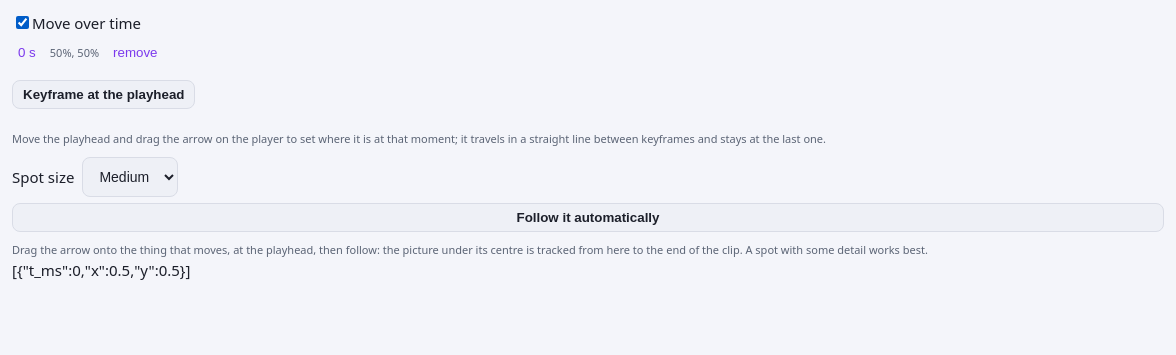
Test: Follow it automatically › shows why it could not follow, and changes nothing
Step 1. Click the button "Follow it automatically" → coordinates (588, 218), box [12,203,1164,232]
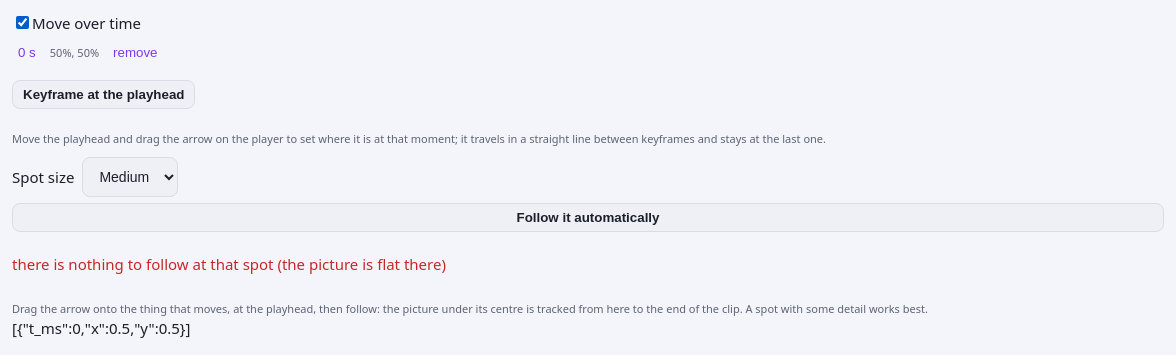
Expected: the message shows "nothing to follow", [12,254,446,274]
